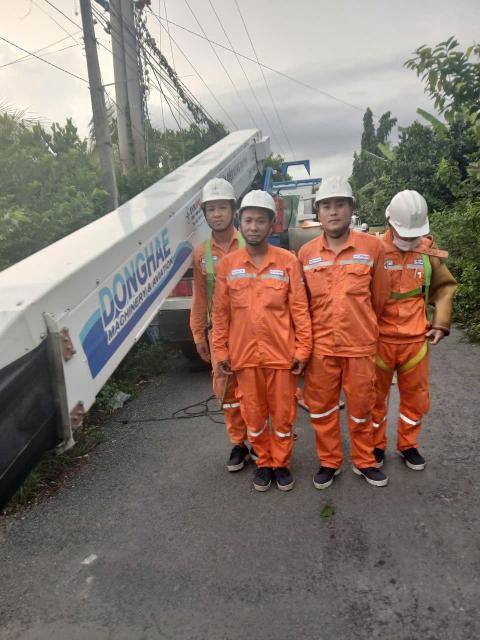helmet: (383, 183, 435, 246), (234, 187, 293, 223), (185, 176, 238, 209), (306, 176, 363, 203)
shoes: (392, 426, 438, 479), (305, 450, 350, 495), (212, 435, 250, 480), (352, 456, 393, 497), (273, 452, 297, 502), (254, 449, 273, 501), (359, 435, 387, 469)
